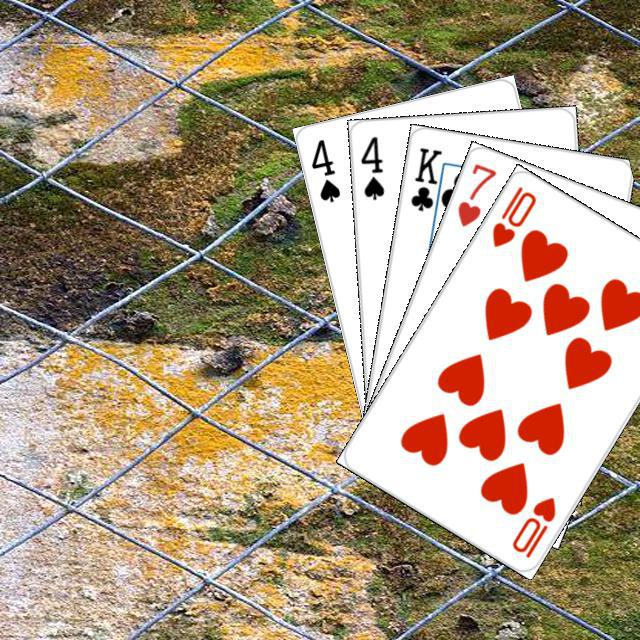10h: (507, 491, 558, 560), (487, 181, 538, 249)
4s: (306, 134, 342, 204), (355, 131, 386, 202)
7h: (452, 158, 499, 229)
Kc: (405, 142, 449, 222)
